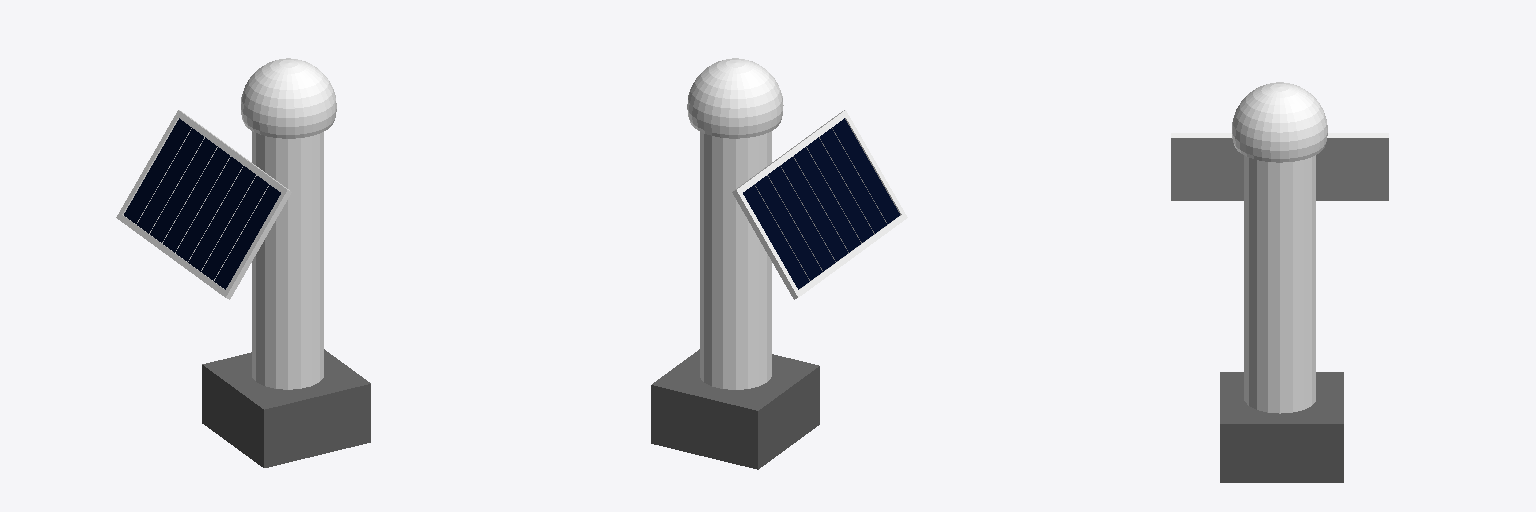
Rendered from GNSS-sensor.obj.
3 renders of one model, left to right at view 1: azimuth 30°, elevation 25°; view 2: azimuth 150°, elevation 25°; view 3: azimuth 270°, elevation 25°, orthographic.
Visible parts, largest first — view 1: Box002, Cylinder001, Box001, Sphere001; view 2: Box002, Cylinder001, Box001, Sphere001; view 3: Cylinder001, Box001, Box002, Sphere001.
Part boxes in pixels (left/top/right/bottom): Box002: left=116, top=110, right=291, bottom=299; Cylinder001: left=252, top=131, right=323, bottom=389; Box001: left=202, top=349, right=370, bottom=467; Sphere001: left=241, top=58, right=336, bottom=138; Box002: left=732, top=110, right=907, bottom=299; Cylinder001: left=700, top=131, right=771, bottom=389; Box001: left=651, top=349, right=819, bottom=469; Sphere001: left=687, top=58, right=783, bottom=138; Cylinder001: left=1244, top=155, right=1315, bottom=413; Box001: left=1220, top=372, right=1343, bottom=482; Box002: left=1171, top=133, right=1388, bottom=200; Sphere001: left=1232, top=82, right=1327, bottom=162.
Bounding box in the file's own units: 79.17 × 164 × 88.09.